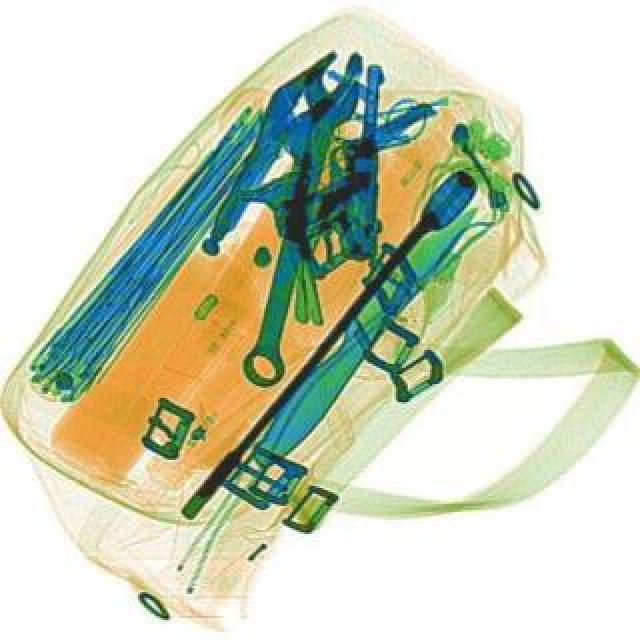gun: (274, 58, 386, 258)
knife: (242, 194, 486, 472)
scissors: (232, 62, 358, 390)
